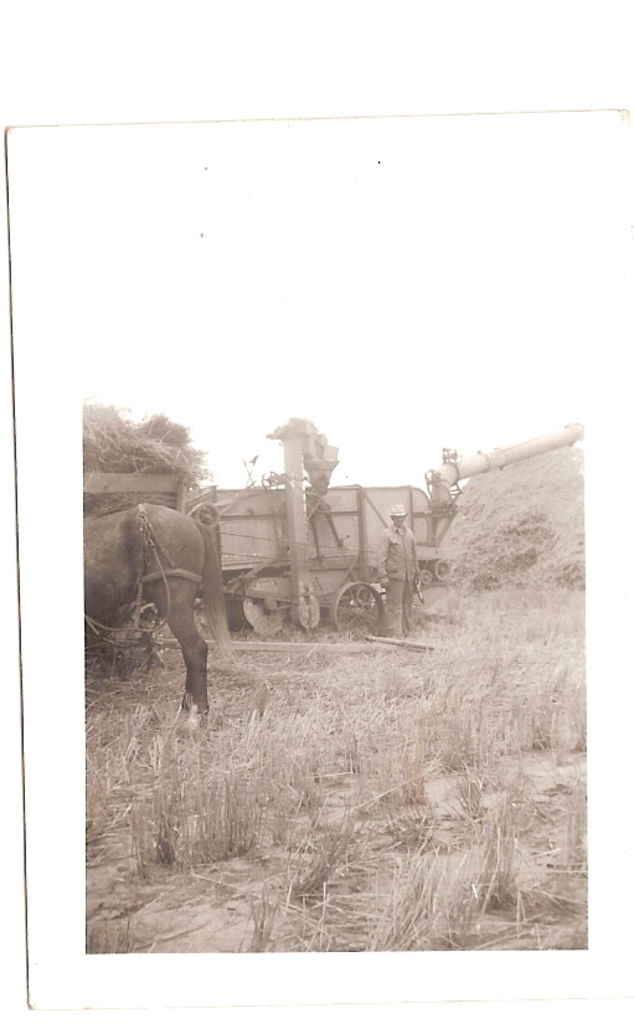Animal: (83, 499, 231, 732)
